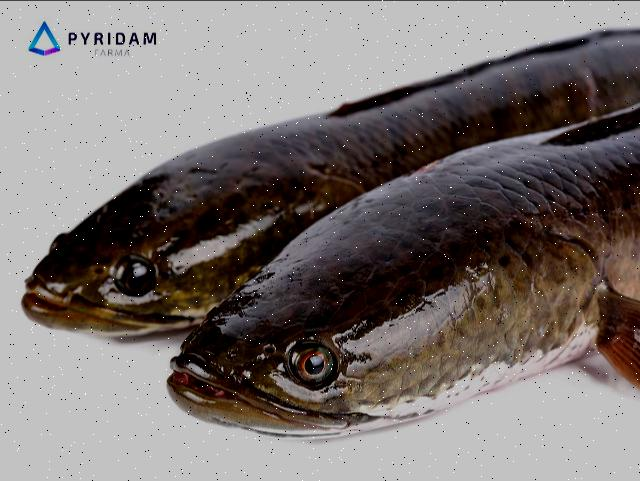Mulut: (137, 328, 377, 446), (3, 250, 191, 364)
